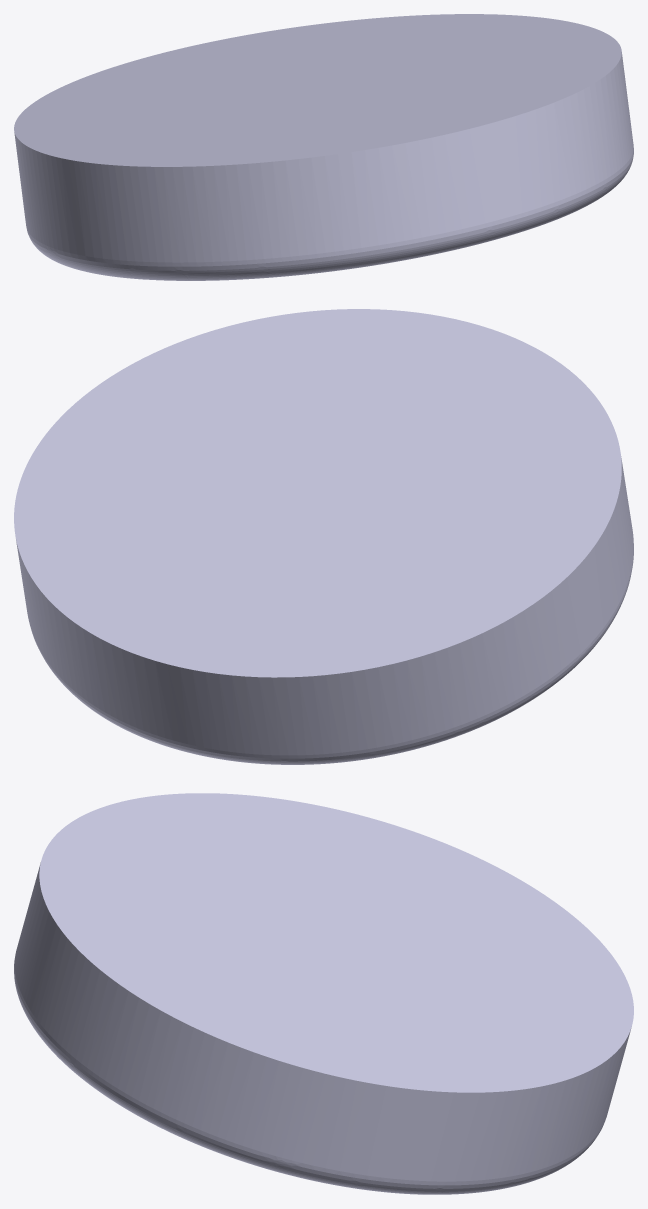
The model's file is backlid.dae.
3 renders of one model, top to bottom at view 1: azimuth 30°, elevation 25°; view 2: azimuth 150°, elevation 25°; view 3: azimuth 270°, elevation 25°, orthographic. The views are drawn at different scales.
Visible parts, largest first — view 1: node0; view 2: node0; view 3: node0.
Part boxes in pixels (bbox=[...]): node0: bbox=[14, 14, 633, 280]; node0: bbox=[14, 309, 633, 764]; node0: bbox=[14, 793, 633, 1194].
Bounding box in the file's own units: 0.025 × 0.0245 × 0.0106.
